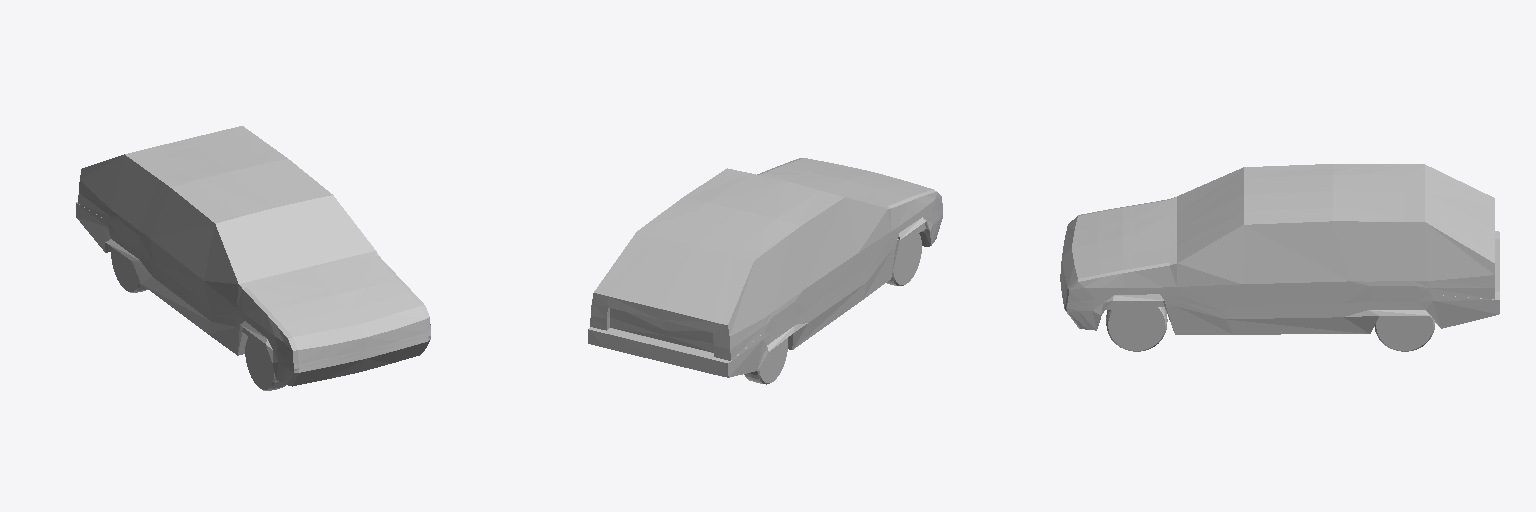
The model's file is CITBX.obj.
3 views of the same model, side by side, from view 1: azimuth 30°, elevation 25°; view 2: azimuth 150°, elevation 25°; view 3: azimuth 270°, elevation 25° (orthographic).
Visible parts, largest first — view 1: Cube_Cube.001, Cylinder.004, Cylinder.003; view 2: Cube_Cube.001, Cylinder.004, Cylinder.003; view 3: Cube_Cube.001, Cylinder.002, Cylinder.001.
Boxes of the visible parts, x1=… form: Cube_Cube.001: x1=76, y1=126, x2=430, y2=386; Cylinder.004: x1=245, y1=337, x2=285, y2=390; Cylinder.003: x1=111, y1=248, x2=147, y2=292; Cube_Cube.001: x1=588, y1=158, x2=942, y2=377; Cylinder.004: x1=886, y1=234, x2=921, y2=285; Cylinder.003: x1=744, y1=338, x2=787, y2=384; Cube_Cube.001: x1=1060, y1=164, x2=1499, y2=334; Cylinder.002: x1=1106, y1=307, x2=1167, y2=351; Cylinder.001: x1=1374, y1=316, x2=1434, y2=351.
Bounding box in the file's own units: 1.04 × 0.857 × 2.63.